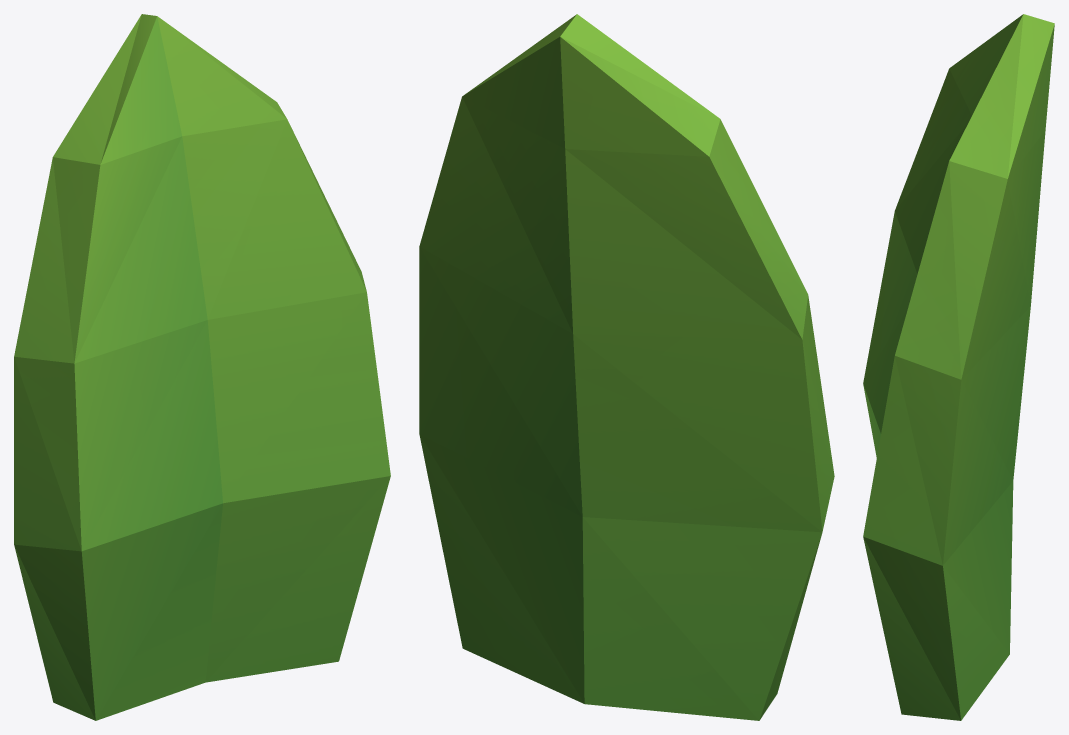
The model's file is kf_grass_1_a.fbx.
3 views of the same model, side by side, from view 1: azimuth 30°, elevation 25°; view 2: azimuth 150°, elevation 25°; view 3: azimuth 270°, elevation 25° (orthographic). The views are drawn at different scales.
Parts seen in each view (by area): view 1: kf_grass_1_a; view 2: kf_grass_1_a; view 3: kf_grass_1_a.
Part boxes in pixels (box(x1,y1,x2,y2)): kf_grass_1_a: box(14, 14, 390, 720); kf_grass_1_a: box(419, 14, 834, 720); kf_grass_1_a: box(863, 14, 1054, 720).
Size of the model in its own units: 0.475 by 0.7831 by 0.2125.
1 material, 1 textured.
